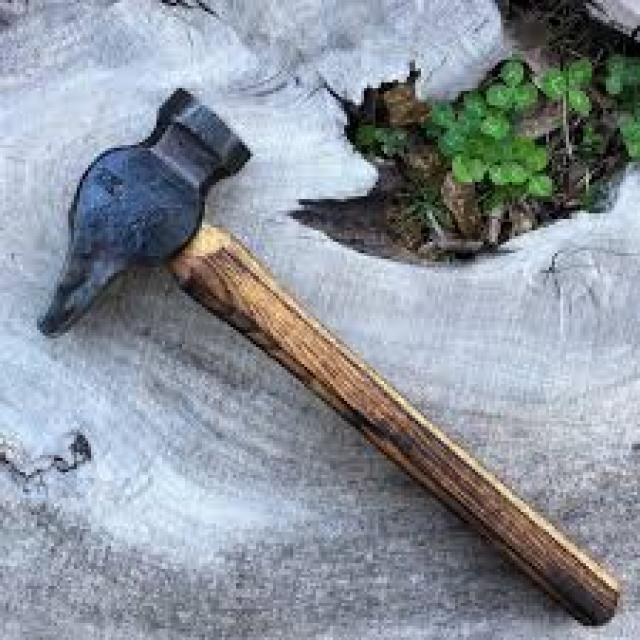hammer: (28, 78, 626, 627)
